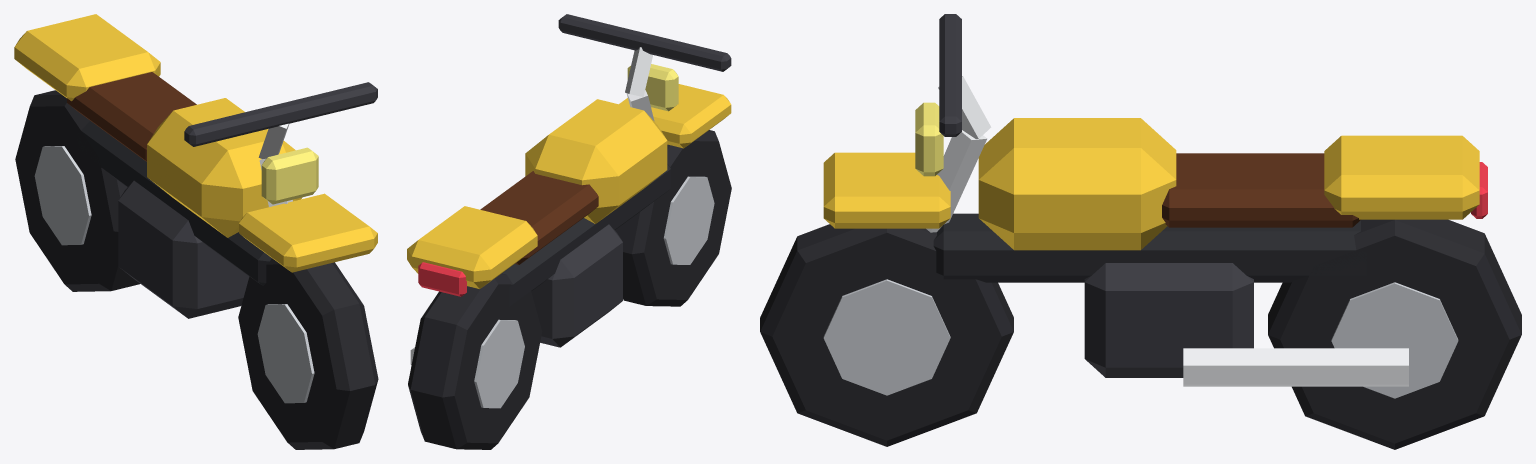
Rendered from YellowMotorcycle.fbx.
3 renders of one model, left to right at view 1: azimuth 30°, elevation 25°; view 2: azimuth 150°, elevation 25°; view 3: azimuth 270°, elevation 25°, orthographic. The views are drawn at different scales.
Visible parts, largest first — view 1: YellowMotorcycle, YellowMotorcycle_WheelF, YellowMotorcycle_WheelB; view 2: YellowMotorcycle, YellowMotorcycle_WheelB, YellowMotorcycle_WheelF; view 3: YellowMotorcycle, YellowMotorcycle_WheelF, YellowMotorcycle_WheelB.
Part boxes in pixels (left/top/right/bottom): YellowMotorcycle: left=14, top=14, right=377, bottom=318; YellowMotorcycle_WheelF: left=238, top=258, right=378, bottom=449; YellowMotorcycle_WheelB: left=15, top=90, right=139, bottom=291; YellowMotorcycle: left=407, top=14, right=731, bottom=364; YellowMotorcycle_WheelB: left=408, top=273, right=542, bottom=449; YellowMotorcycle_WheelF: left=615, top=130, right=731, bottom=306; YellowMotorcycle: left=823, top=14, right=1487, bottom=386; YellowMotorcycle_WheelF: left=760, top=224, right=1013, bottom=446; YellowMotorcycle_WheelB: left=1268, top=219, right=1521, bottom=449.
Size of the model in its own units: 1.8 by 2.93 by 5.4.
Materials: 1 (1 with a texture image).
